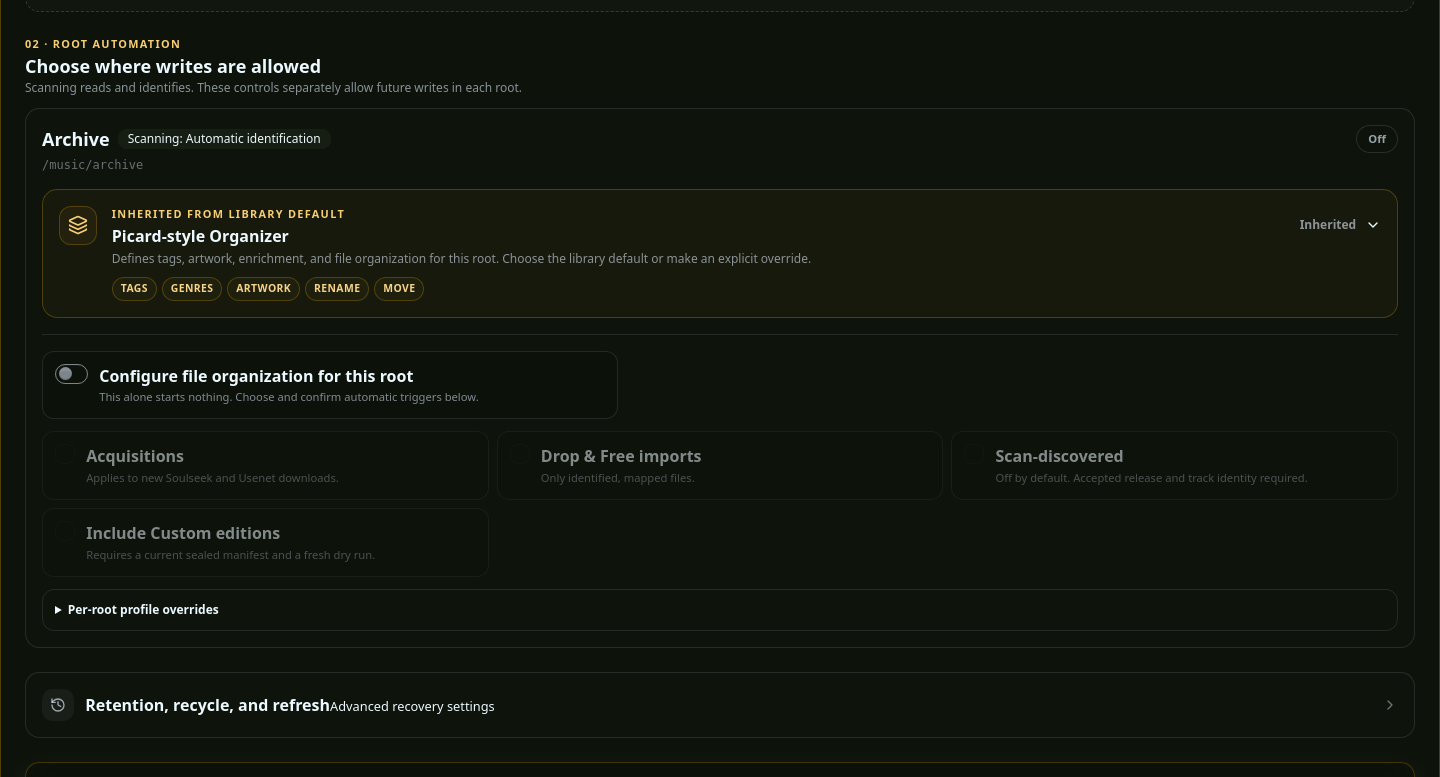
Test: SettingsLibraryManagement › shows automatic planning progress and resumes the same dry run after closing
(page scrolled)
Click the checkbox labelled "Configure file organization".
click(72, 374)  # box [55,364,88,384]
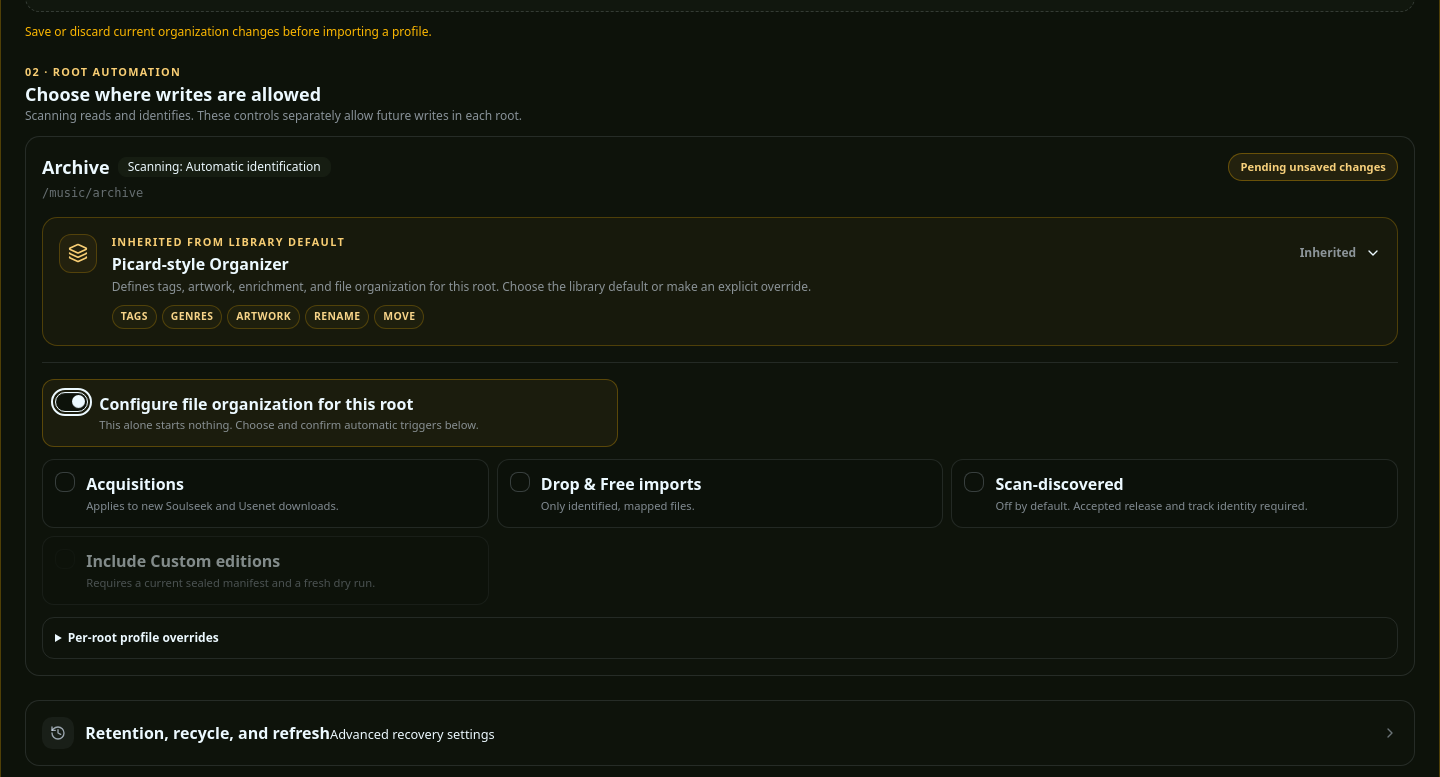
Click the checkbox labelled "Acquisitions Applies to new Soulseek and Usenet downloads.".
click(65, 482)  # box [55,472,75,492]
(page scrolled)
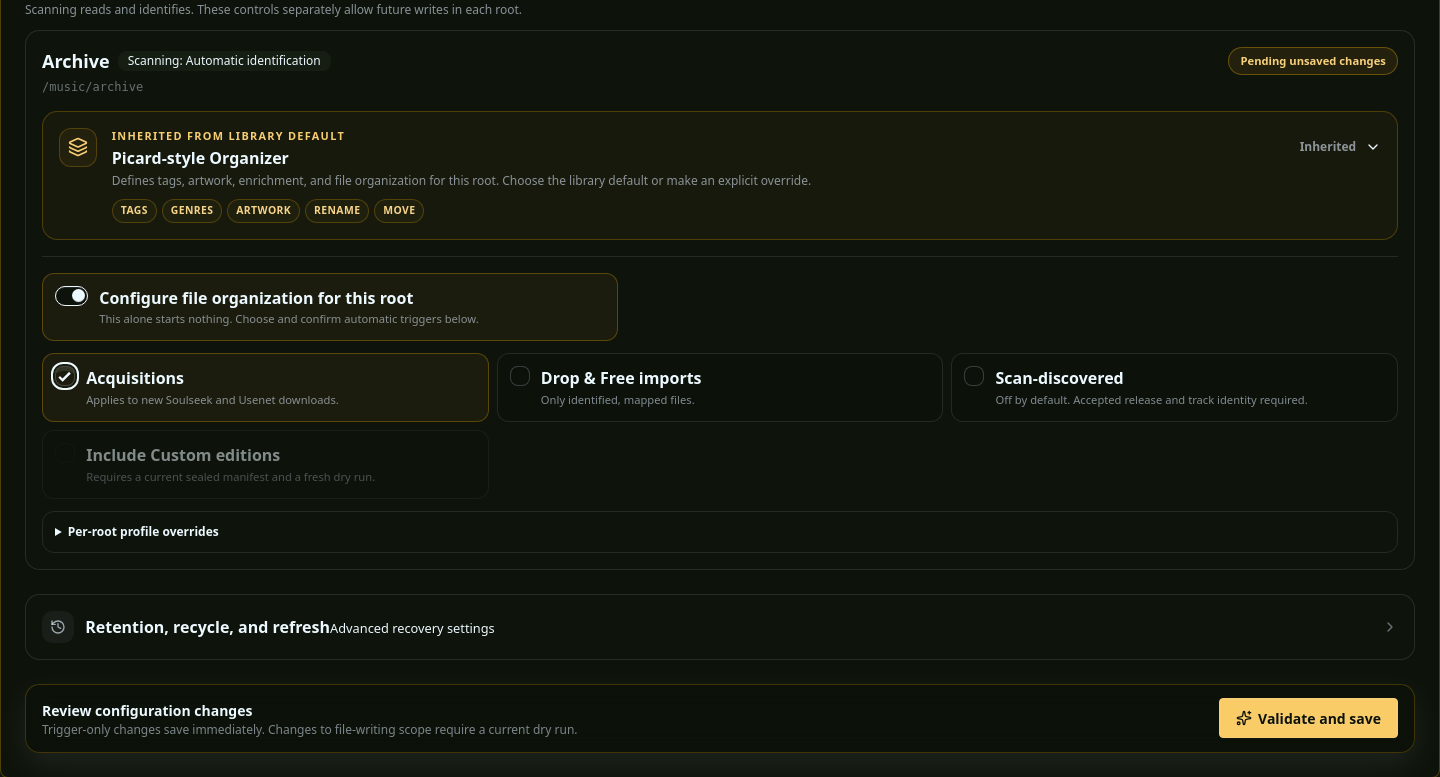
Click the button "Validate and save".
click(1309, 718)  # box [1219,698,1398,738]
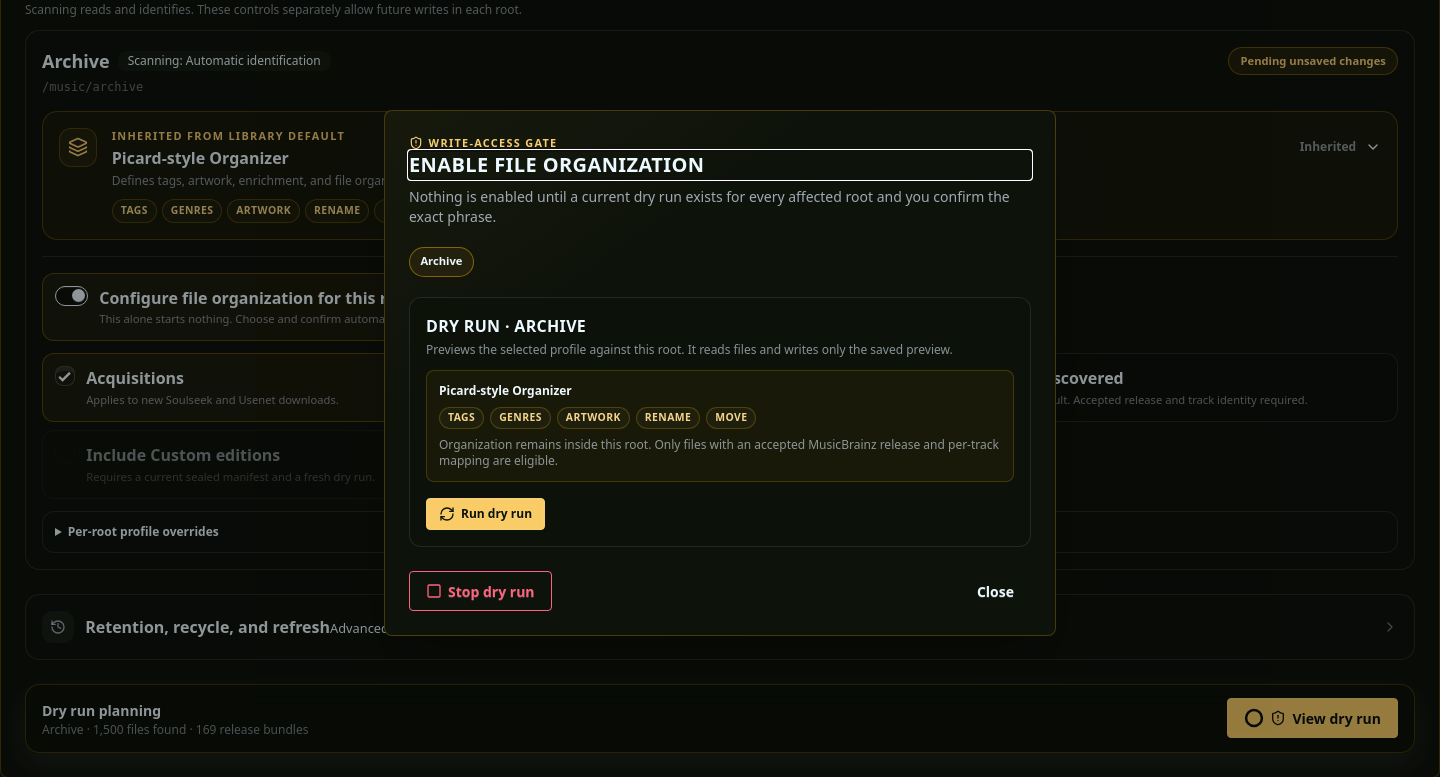
Click the button "Run dry run".
click(486, 514)  # box [426,498,545,530]
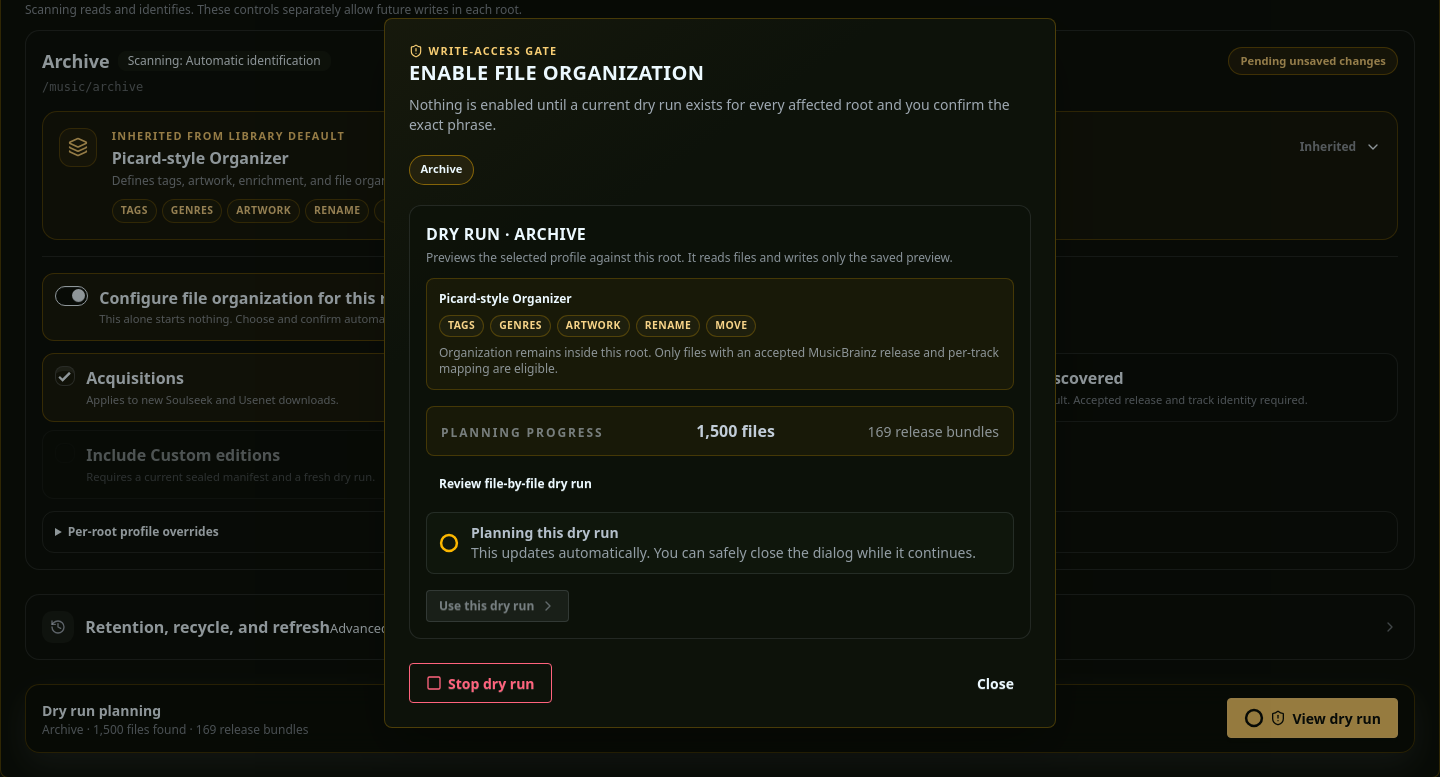
Expected: the message shows "updates automatically", [471,543,976,562]
Expected: the text "1,500 files" is shown, [696,419,775,443]
Expected: the text "169 release bundles" is shown, [868,422,999,442]
Click the button "Close".
click(995, 683)  # box [960,663,1031,703]
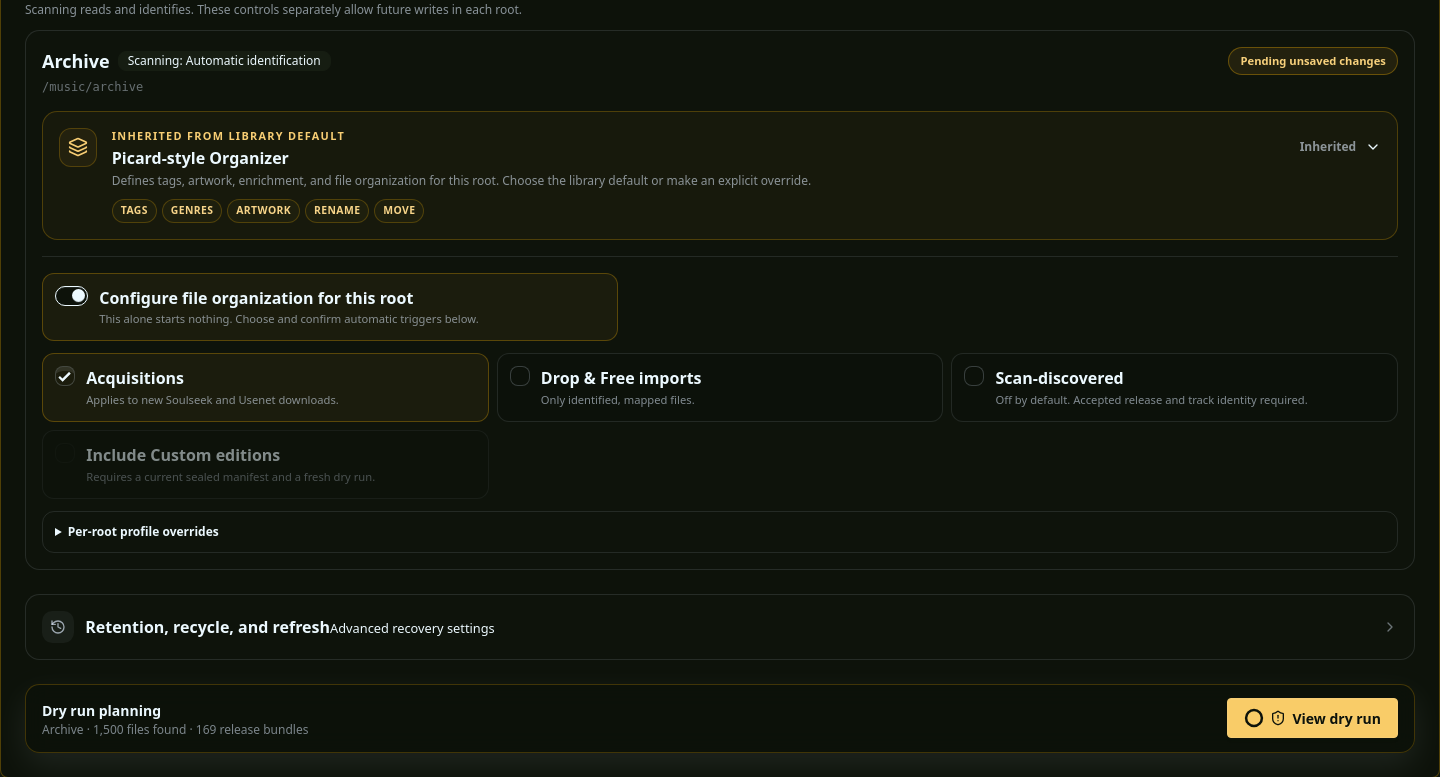
Expected: the text "Dry run planning" is shown, [42,701,161,720]
Click the button "View dry run".
click(1313, 718)  # box [1227,698,1398,738]
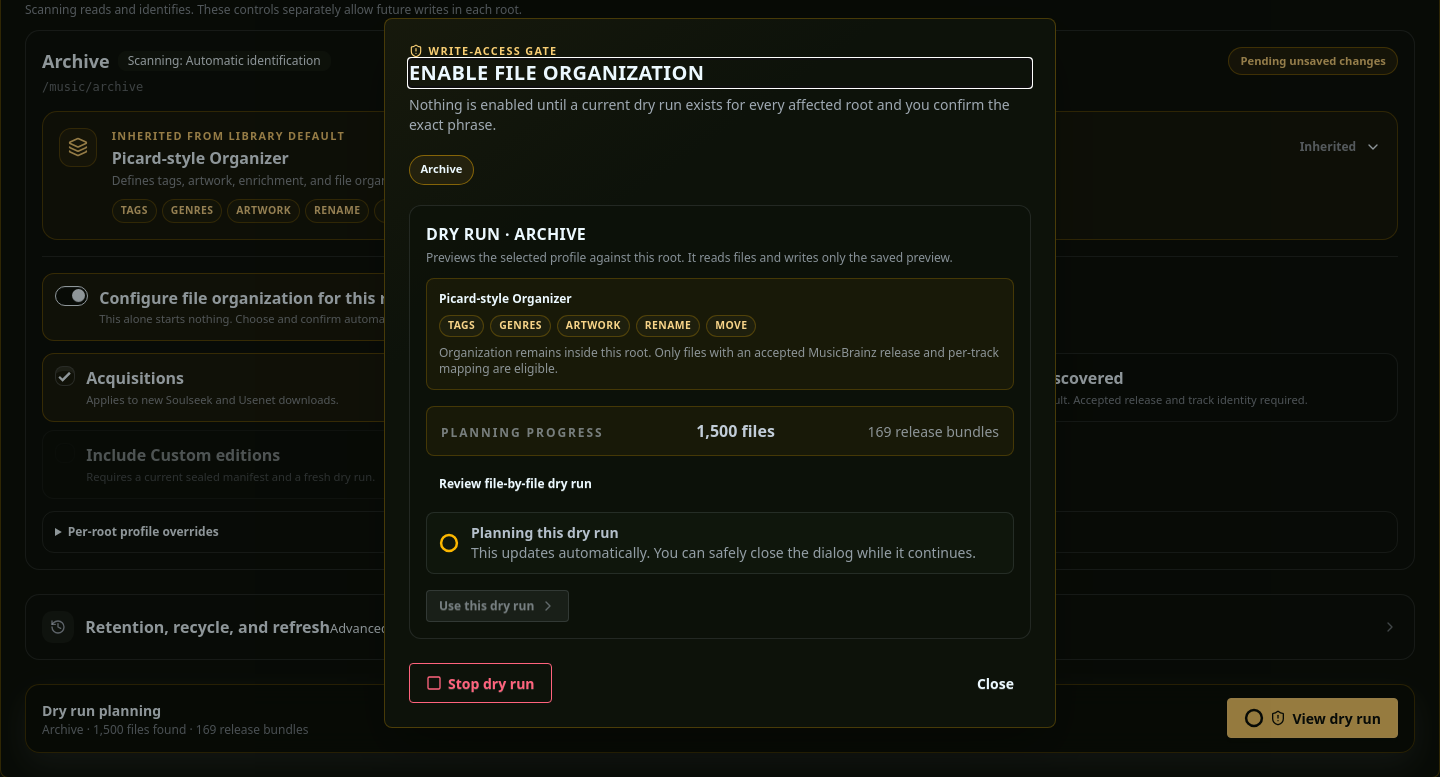
Expected: the message shows "updates automatically", [471,543,976,562]
